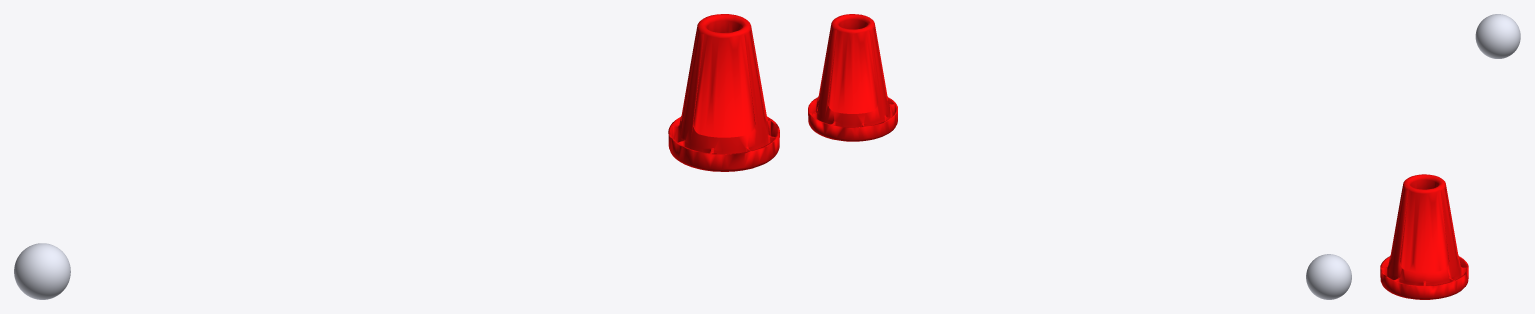
File: redcone-1.fbx
3 renders of one model, left to right at view 1: azimuth 30°, elevation 25°; view 2: azimuth 150°, elevation 25°; view 3: azimuth 270°, elevation 25°, orthographic. The views are drawn at different scales.
Parts seen in each view (by area): view 1: Body1, Body1.141; view 2: Body1, Body1.141; view 3: Body1, Body1.141.
Boxes of the visible parts, x1,y1,x2,y2 form: Body1: [668, 14, 779, 171]; Body1.141: [14, 243, 70, 299]; Body1: [808, 14, 897, 141]; Body1.141: [1306, 254, 1351, 299]; Body1: [1380, 174, 1468, 299]; Body1.141: [1475, 14, 1520, 58].
Bounding box in the file's own units: 74.42 × 15.29 × 16.1.
